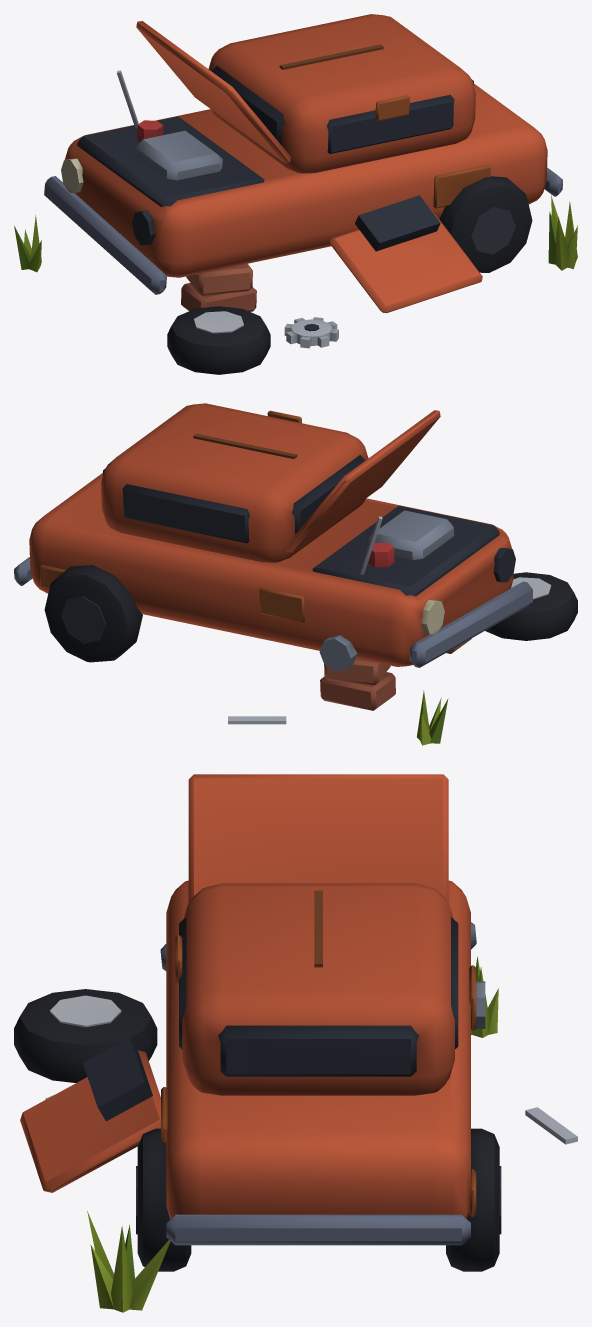
File: n_wreck.glb
3 renders of one model, top to bottom at view 1: azimuth 30°, elevation 25°; view 2: azimuth 150°, elevation 25°; view 3: azimuth 270°, elevation 25°, orthographic. The views are drawn at different scales.
Parts seen in each view (by area): view 1: body; view 2: body; view 3: body.
Boxes of the visible parts, bbox=[...] form: body: bbox=[14, 14, 577, 374]; body: bbox=[14, 403, 577, 745]; body: bbox=[14, 774, 577, 1312].
Size of the model in its own units: 3.93 by 2 by 3.15.
